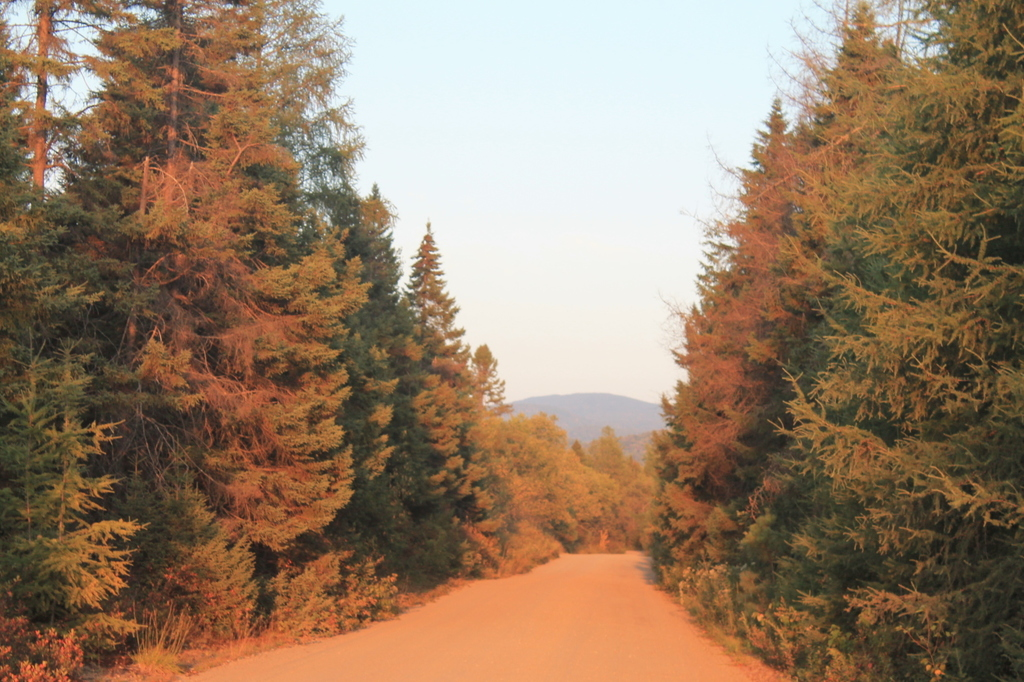Tree: (65, 0, 336, 601), (822, 0, 1023, 681), (714, 0, 905, 497), (648, 107, 822, 578), (0, 185, 132, 660), (0, 0, 155, 207), (234, 0, 349, 273), (392, 219, 484, 525), (340, 196, 426, 489), (507, 409, 598, 554), (586, 410, 639, 535), (479, 344, 512, 543)
